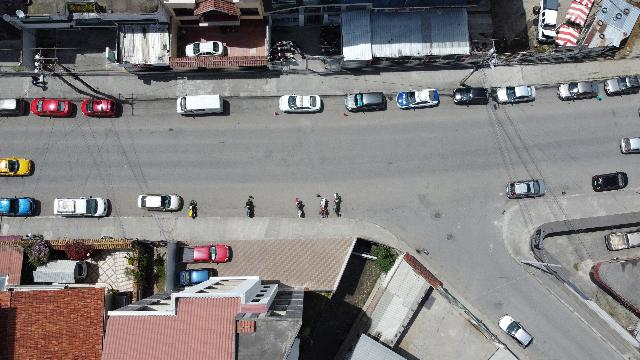Vehiculo: (498, 315, 534, 349), (54, 196, 108, 218), (176, 94, 224, 116), (179, 245, 230, 262), (396, 89, 439, 109), (345, 92, 387, 112), (557, 81, 599, 101), (492, 86, 536, 105), (138, 193, 184, 211), (278, 95, 322, 113), (604, 229, 640, 251), (30, 99, 72, 117), (604, 76, 640, 96), (506, 180, 546, 198), (592, 171, 628, 191), (178, 268, 218, 286), (81, 99, 119, 117), (1, 197, 36, 216), (1, 156, 34, 176), (453, 87, 489, 105), (185, 41, 223, 57), (1, 98, 26, 116), (620, 136, 640, 154)
